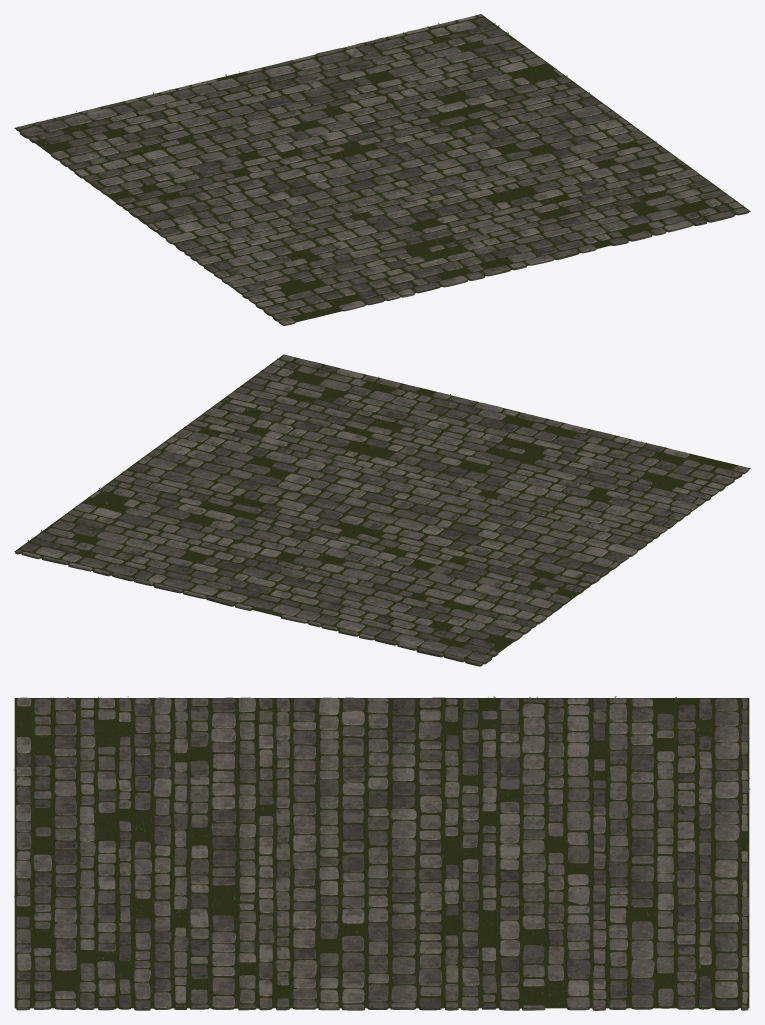
The model's file is ER_Sol_Dalles_Herbe_26x26m.gltf.
3 renders of one model, top to bottom at view 1: azimuth 30°, elevation 25°; view 2: azimuth 150°, elevation 25°; view 3: azimuth 270°, elevation 25°, orthographic. The views are drawn at different scales.
Visible parts, largest first — view 1: ER_Sol_Dalles_Herbe_26x26m_DAL.001, ER_Sol_Dalles_Herbe_26x26m_TER.001, ER_Sol_Dalles_Herbe_26x26m_HER.001; view 2: ER_Sol_Dalles_Herbe_26x26m_DAL.001, ER_Sol_Dalles_Herbe_26x26m_TER.001, ER_Sol_Dalles_Herbe_26x26m_HER.001; view 3: ER_Sol_Dalles_Herbe_26x26m_DAL.001, ER_Sol_Dalles_Herbe_26x26m_TER.001, ER_Sol_Dalles_Herbe_26x26m_HER.001.
Part boxes in pixels (x1=…): ER_Sol_Dalles_Herbe_26x26m_DAL.001: x1=16, y1=14, x2=748, y2=325; ER_Sol_Dalles_Herbe_26x26m_TER.001: x1=14, y1=14, x2=750, y2=325; ER_Sol_Dalles_Herbe_26x26m_HER.001: x1=18, y1=20, x2=743, y2=314; ER_Sol_Dalles_Herbe_26x26m_DAL.001: x1=15, y1=355, x2=748, y2=666; ER_Sol_Dalles_Herbe_26x26m_TER.001: x1=14, y1=354, x2=750, y2=665; ER_Sol_Dalles_Herbe_26x26m_HER.001: x1=27, y1=358, x2=735, y2=664; ER_Sol_Dalles_Herbe_26x26m_DAL.001: x1=15, y1=697, x2=748, y2=1010; ER_Sol_Dalles_Herbe_26x26m_TER.001: x1=14, y1=697, x2=749, y2=1008; ER_Sol_Dalles_Herbe_26x26m_HER.001: x1=14, y1=696, x2=750, y2=1007.
Size of the model in its own units: 26.06 by 0.3315 by 26.09.
Materials: 3 (2 with a texture image).
